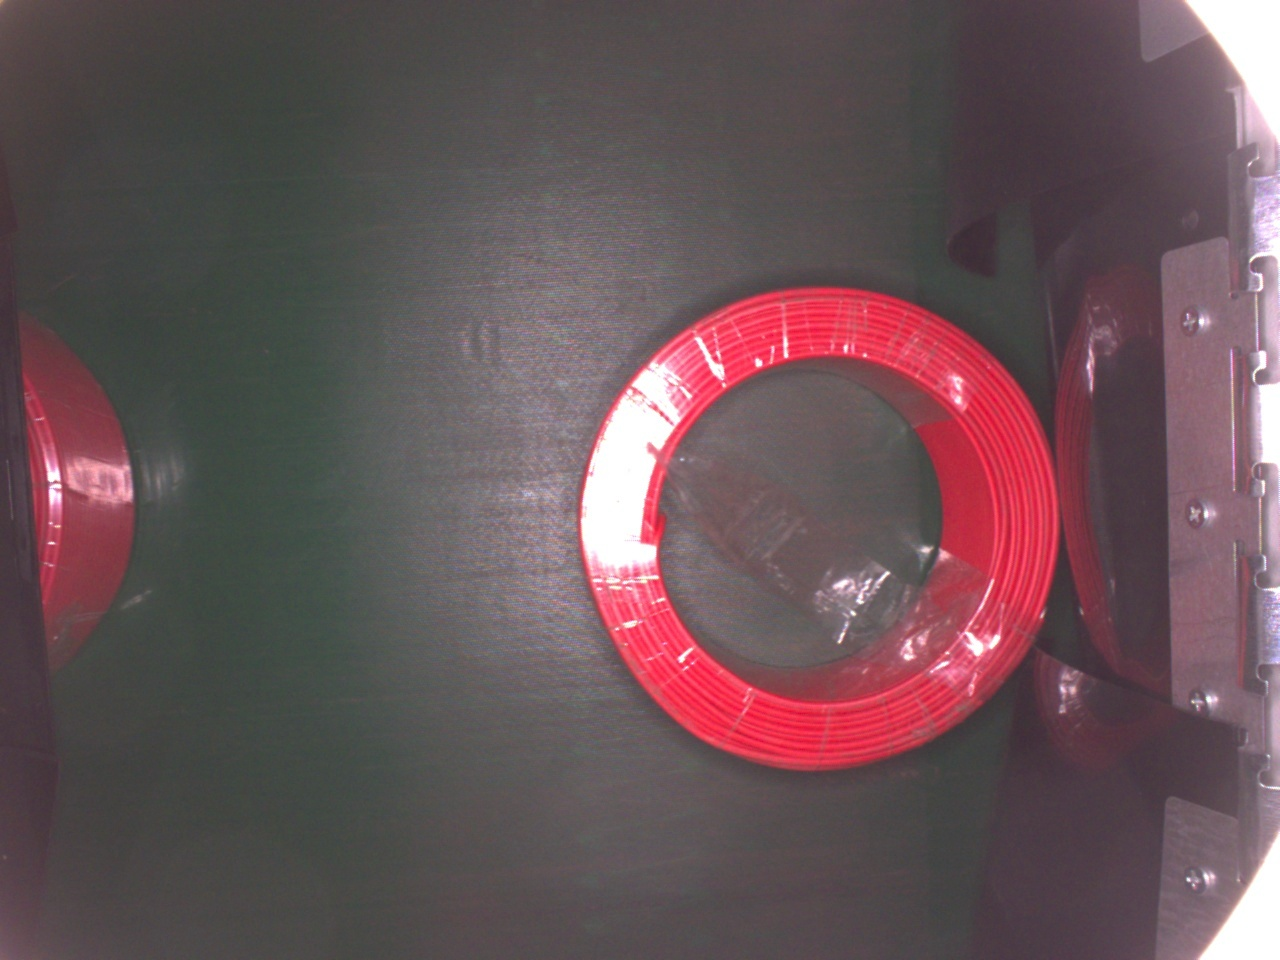red: (564, 278, 1061, 775)
